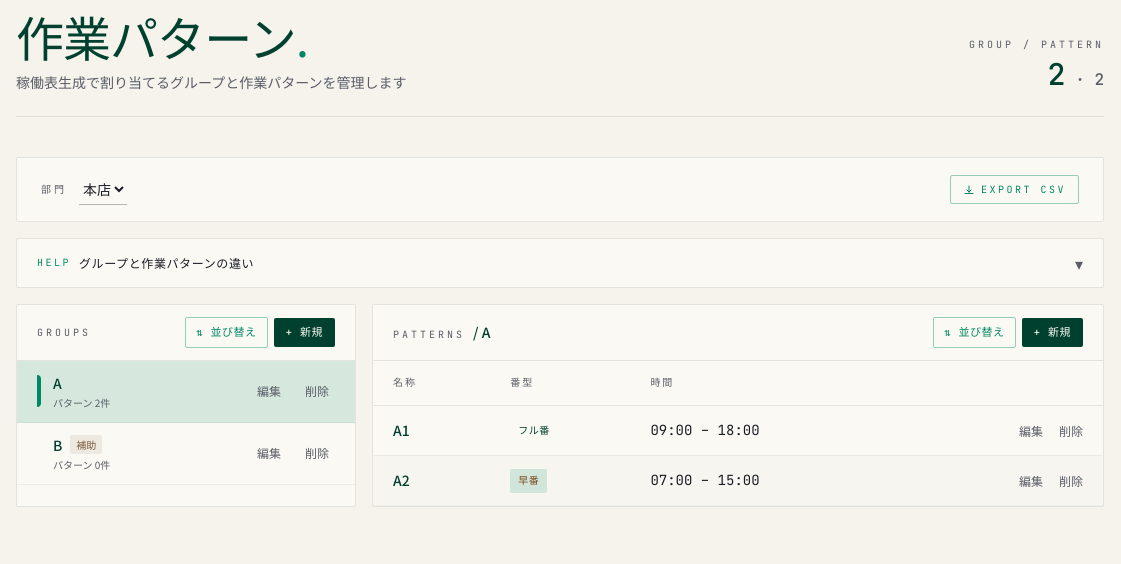
Scenario: WorkPatternsPage — initial render › clicking another group changes the pattern list
Check: the text "A1" is shown, box [373, 405, 498, 455]
Click the button with aria-label "グループ B を選択".
click(138, 453)  # box [37, 434, 239, 472]
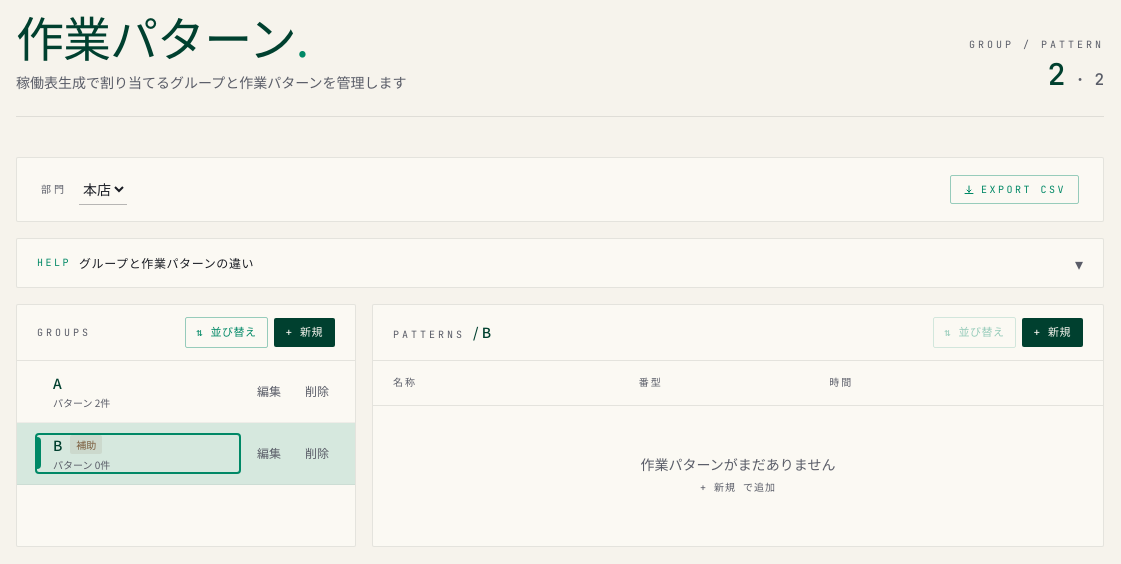
Check: the text "作業パターンがまだありません" is shown, box [640, 454, 835, 474]
